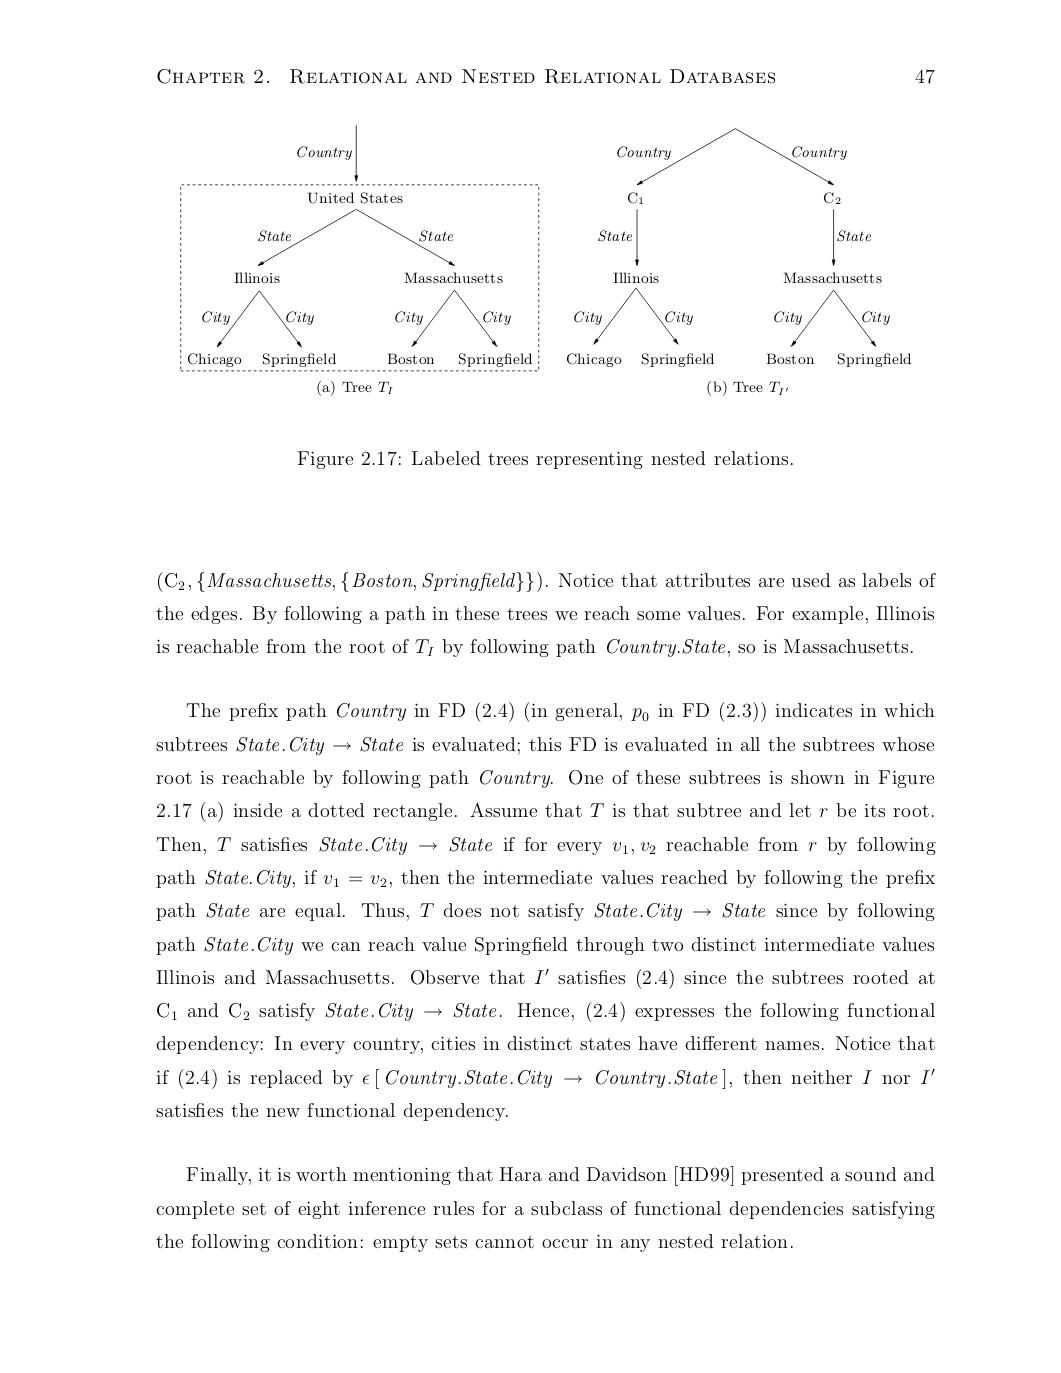figure: (181, 125, 539, 371), (566, 128, 911, 366)
